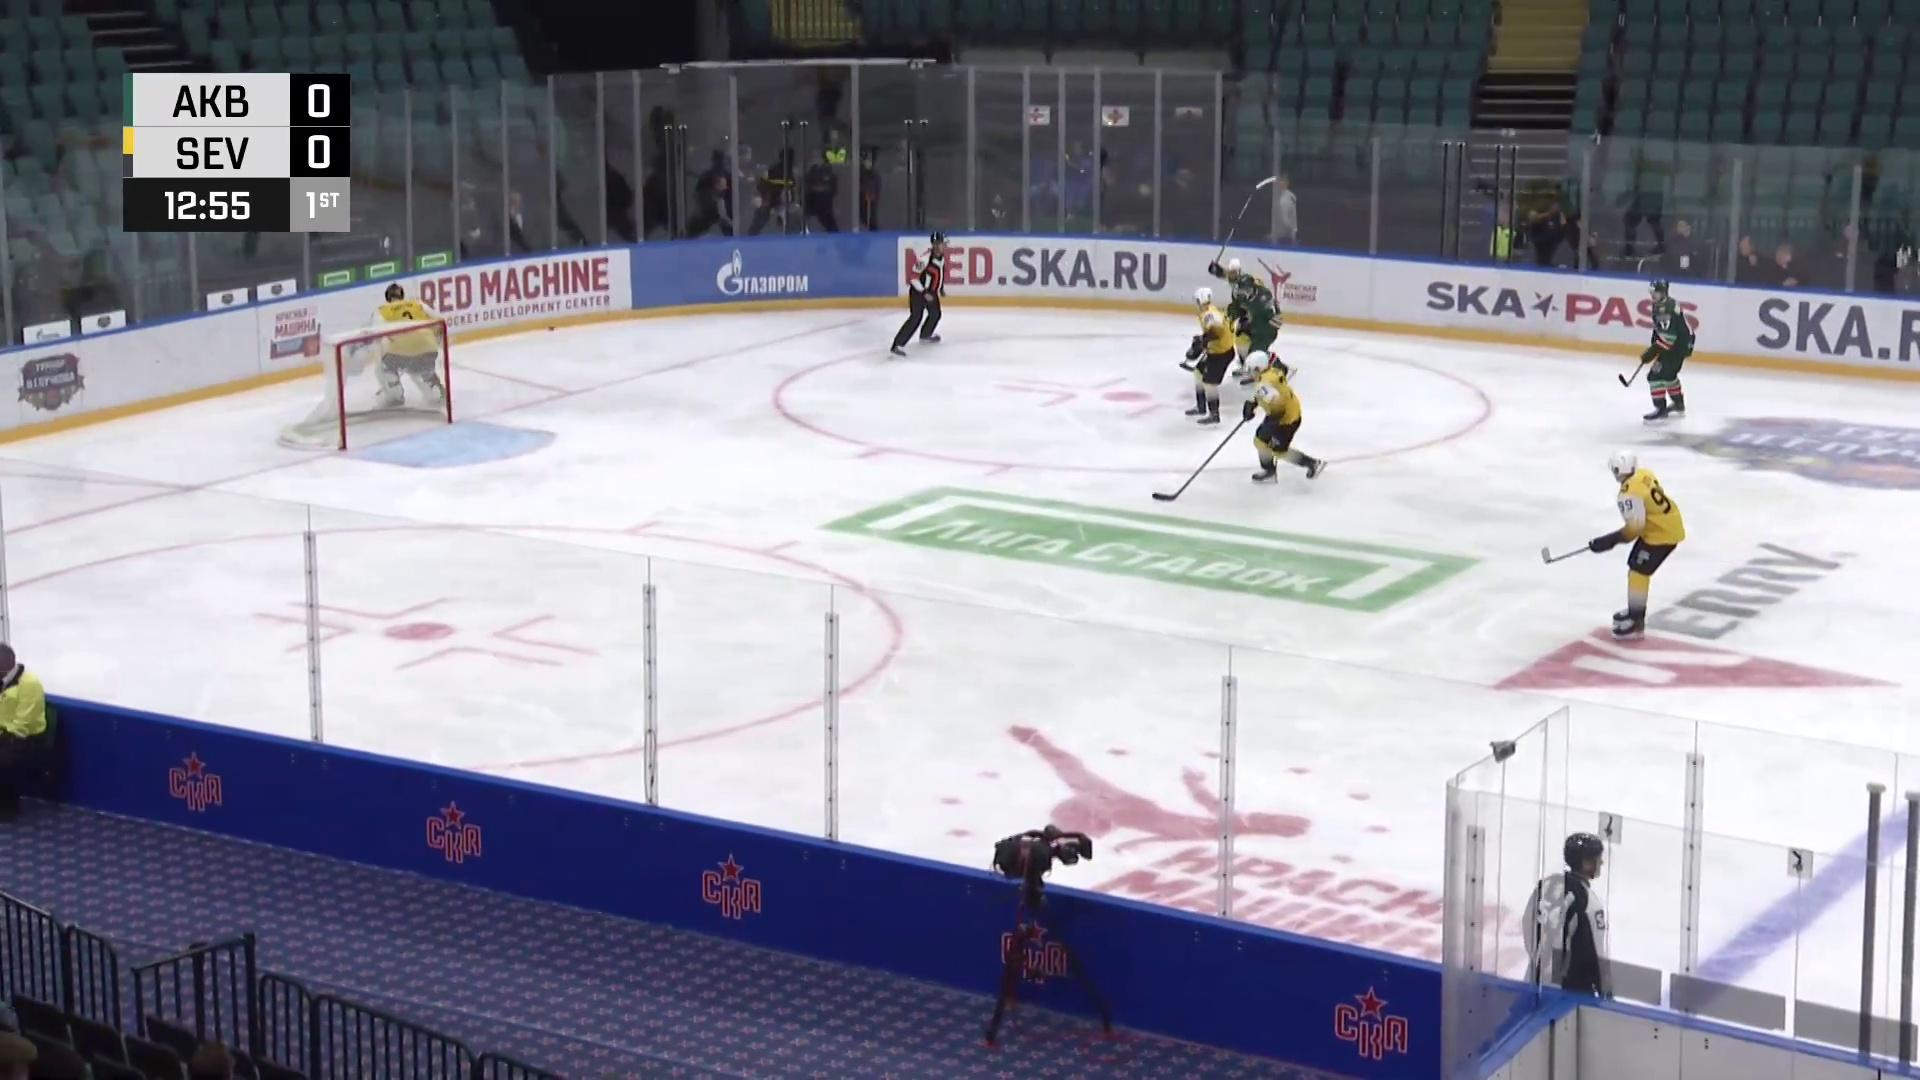ball: (546, 326, 558, 332)
